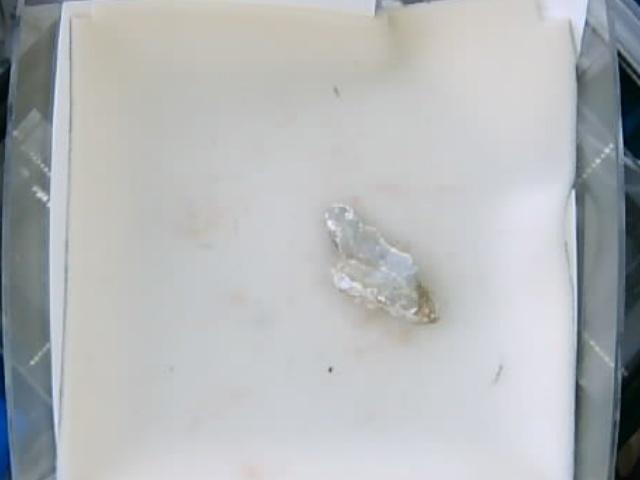Brisk: (327, 207, 437, 323)
